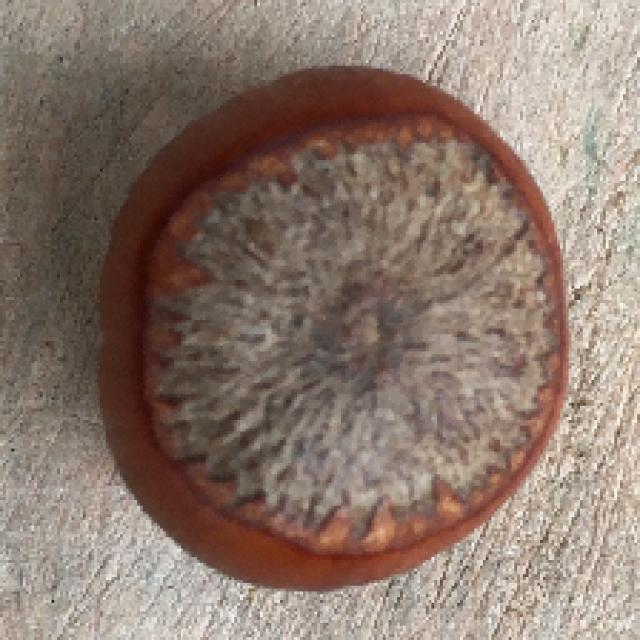hazelnut: (107, 62, 566, 595)
